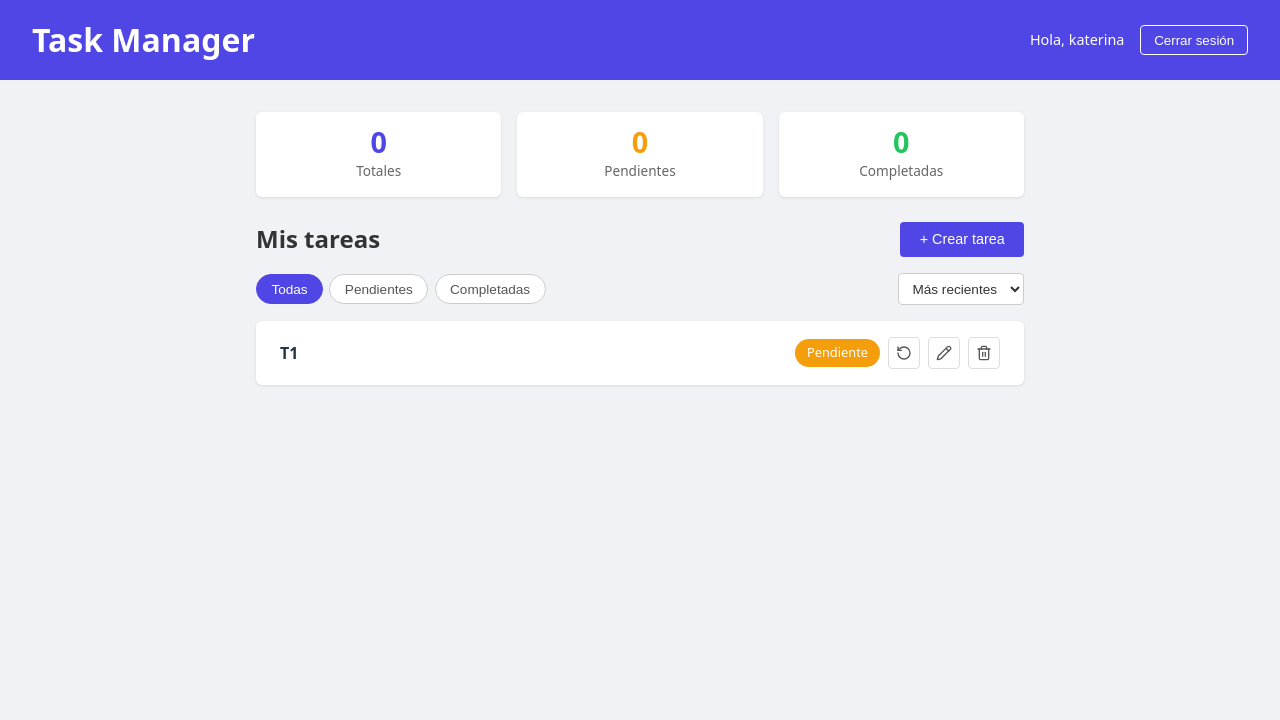
it: Dashboard › crea una tarea y muestra toast de éxito
expect the text "T1" is shown: met, box [280,342,298,364]
Click the button "+ Crear tarea" at (962, 239), box [900,222,1024,257]
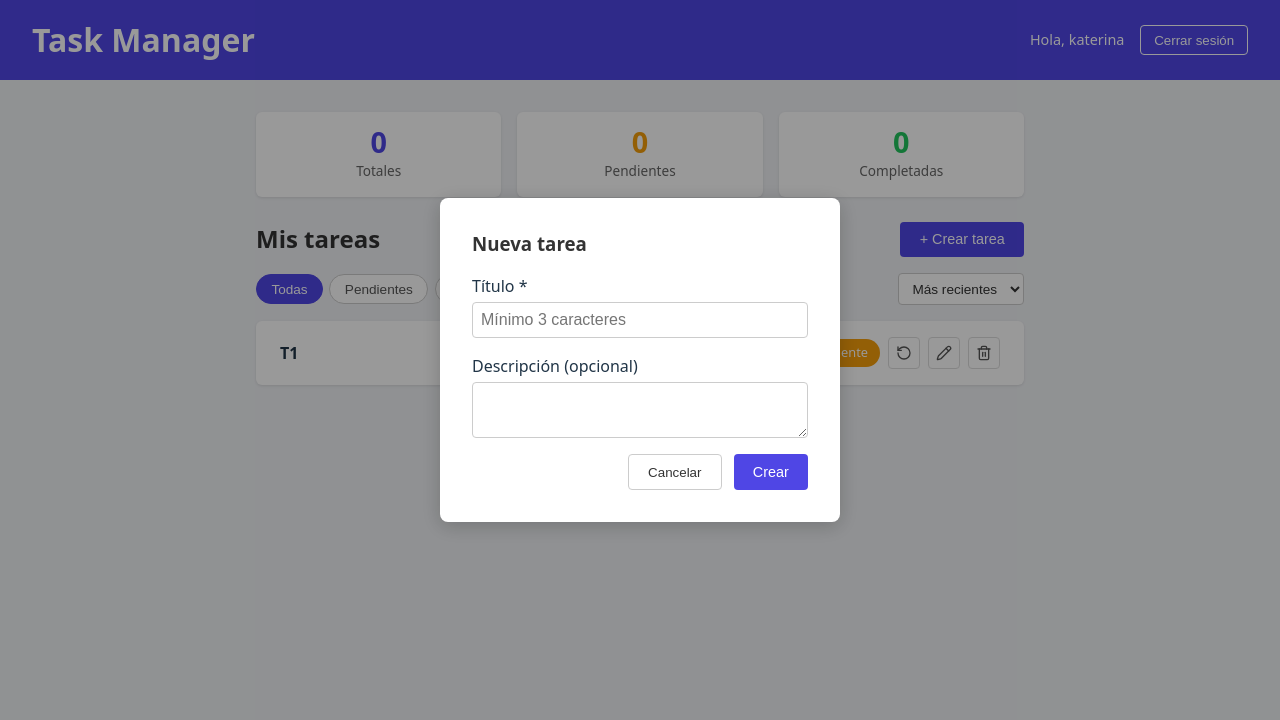
Type "Nueva" into the field with placeholder "Mínimo 3 caracteres" at (640, 320), box [472,302,808,338]
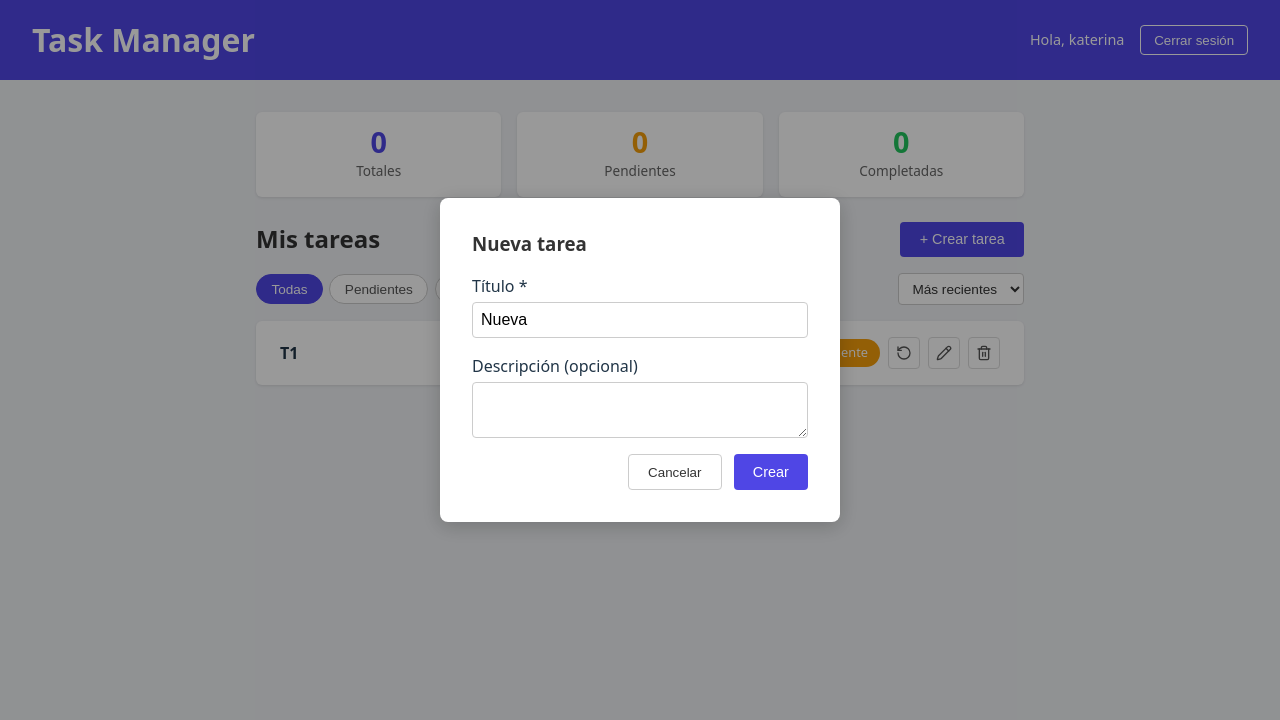
Click the button "Crear" at (771, 472), box [734,454,808,490]
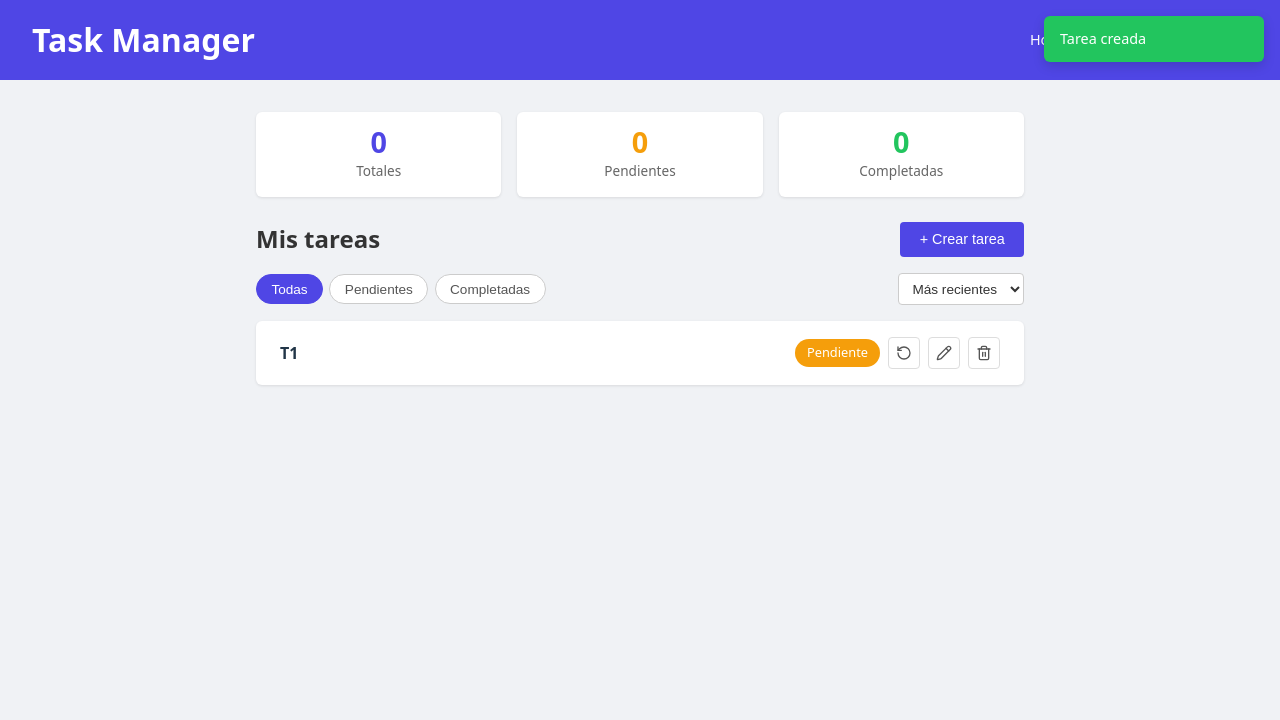
expect the text "Tarea creada" is shown: met, box [1044,16,1264,62]
